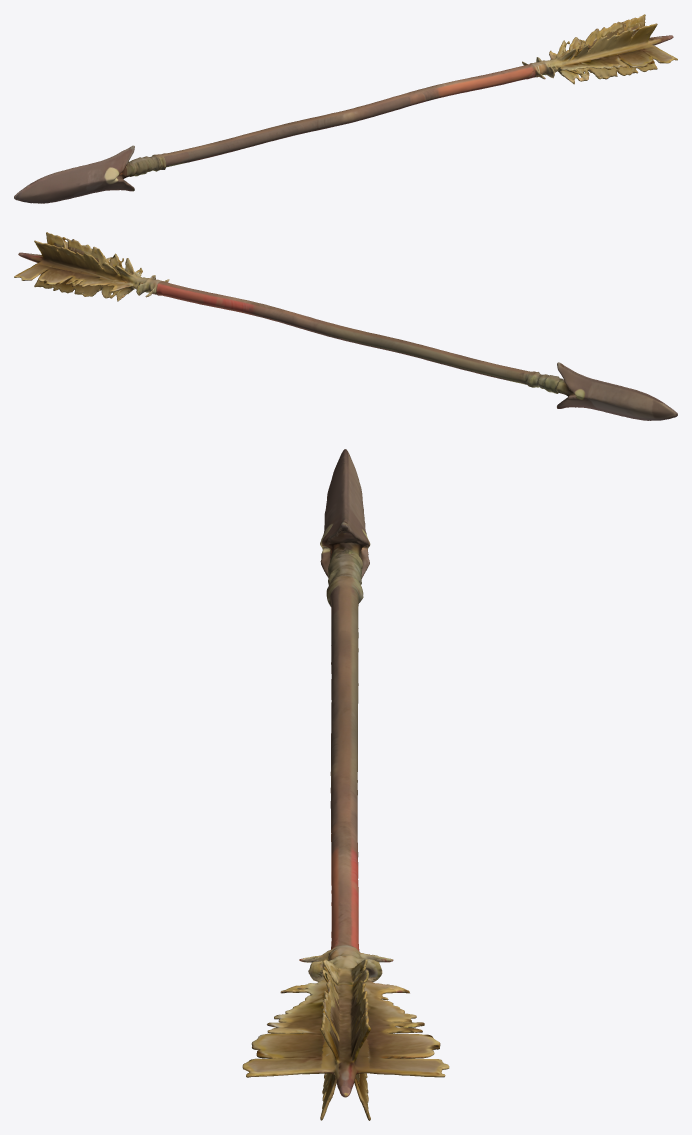
Rendered from Meshy_AI_Arrow_in_Darkness_0324193410_texture.fbx.
3 views of the same model, one above another, from view 1: azimuth 30°, elevation 25°; view 2: azimuth 150°, elevation 25°; view 3: azimuth 270°, elevation 25° (orthographic). The views are drawn at different scales.
Parts seen in each view (by area): view 1: Mesh_0; view 2: Mesh_0; view 3: Mesh_0.
Boxes of the visible parts, bbox=[...] form: Mesh_0: bbox=[14, 14, 677, 203]; Mesh_0: bbox=[14, 232, 677, 420]; Mesh_0: bbox=[242, 449, 449, 1120].
Bounding box in the file's own units: 190 × 12.79 × 25.88.
Materials: 1 (1 with a texture image).
